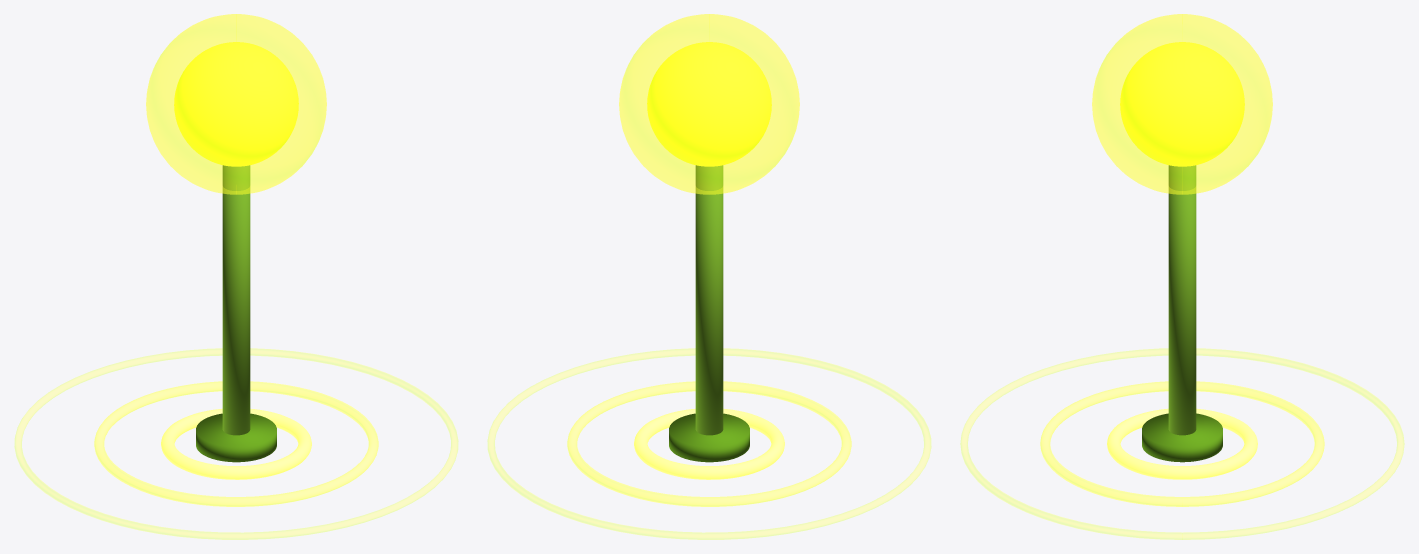
Rendered from map-pin-lime.glb.
3 renders of one model, left to right at view 1: azimuth 30°, elevation 25°; view 2: azimuth 150°, elevation 25°; view 3: azimuth 270°, elevation 25°, orthographic.
Visible parts, largest first — view 1: Glow, Cap, Pulse2, Column, Pulse1, Pulse0, Base; view 2: Glow, Cap, Pulse2, Column, Pulse1, Pulse0, Base; view 3: Glow, Cap, Pulse2, Column, Pulse1, Pulse0, Base.
Boxes of the visible parts, bbox=[...] form: Glow: bbox=[146, 14, 326, 194]; Cap: bbox=[174, 42, 298, 166]; Pulse2: bbox=[14, 348, 458, 539]; Column: bbox=[222, 165, 250, 435]; Pulse1: bbox=[94, 381, 378, 506]; Pulse0: bbox=[161, 408, 311, 479]; Base: bbox=[196, 413, 276, 462]; Glow: bbox=[619, 14, 799, 194]; Cap: bbox=[647, 42, 771, 166]; Pulse2: bbox=[487, 348, 931, 539]; Column: bbox=[695, 165, 723, 435]; Pulse1: bbox=[567, 381, 851, 506]; Pulse0: bbox=[634, 408, 784, 479]; Base: bbox=[669, 413, 749, 462]; Glow: bbox=[1092, 14, 1272, 194]; Cap: bbox=[1120, 42, 1244, 166]; Pulse2: bbox=[960, 348, 1404, 539]; Column: bbox=[1168, 165, 1196, 435]; Pulse1: bbox=[1040, 381, 1324, 506]; Pulse0: bbox=[1107, 408, 1257, 479]; Base: bbox=[1142, 413, 1222, 462].
Size of the model in its own units: 1.42 by 1.51 by 1.42.
